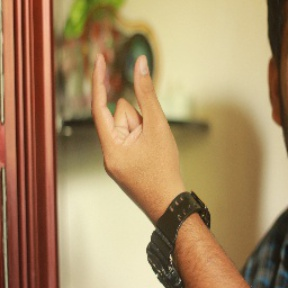U: (81, 49, 184, 183)
